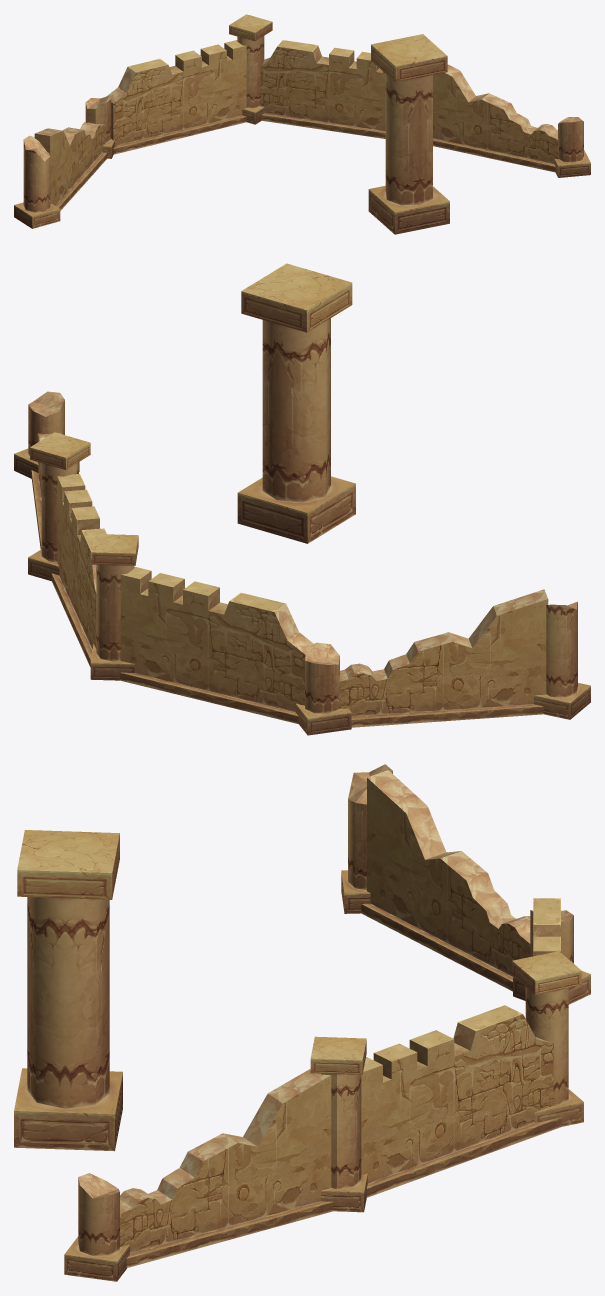
File: Area_10_20.fbx
3 views of the same model, one above another, from view 1: azimuth 30°, elevation 25°; view 2: azimuth 150°, elevation 25°; view 3: azimuth 270°, elevation 25° (orthographic). The views are drawn at different scales.
Parts seen in each view (by area): view 1: Area_10_20; view 2: Area_10_20; view 3: Area_10_20.
Boxes of the visible parts, x1,y1,x2,y2 form: Area_10_20: [14, 14, 590, 234]; Area_10_20: [14, 263, 590, 735]; Area_10_20: [14, 764, 590, 1281].
Bounding box in the file's own units: 2274 × 752 × 1416.
